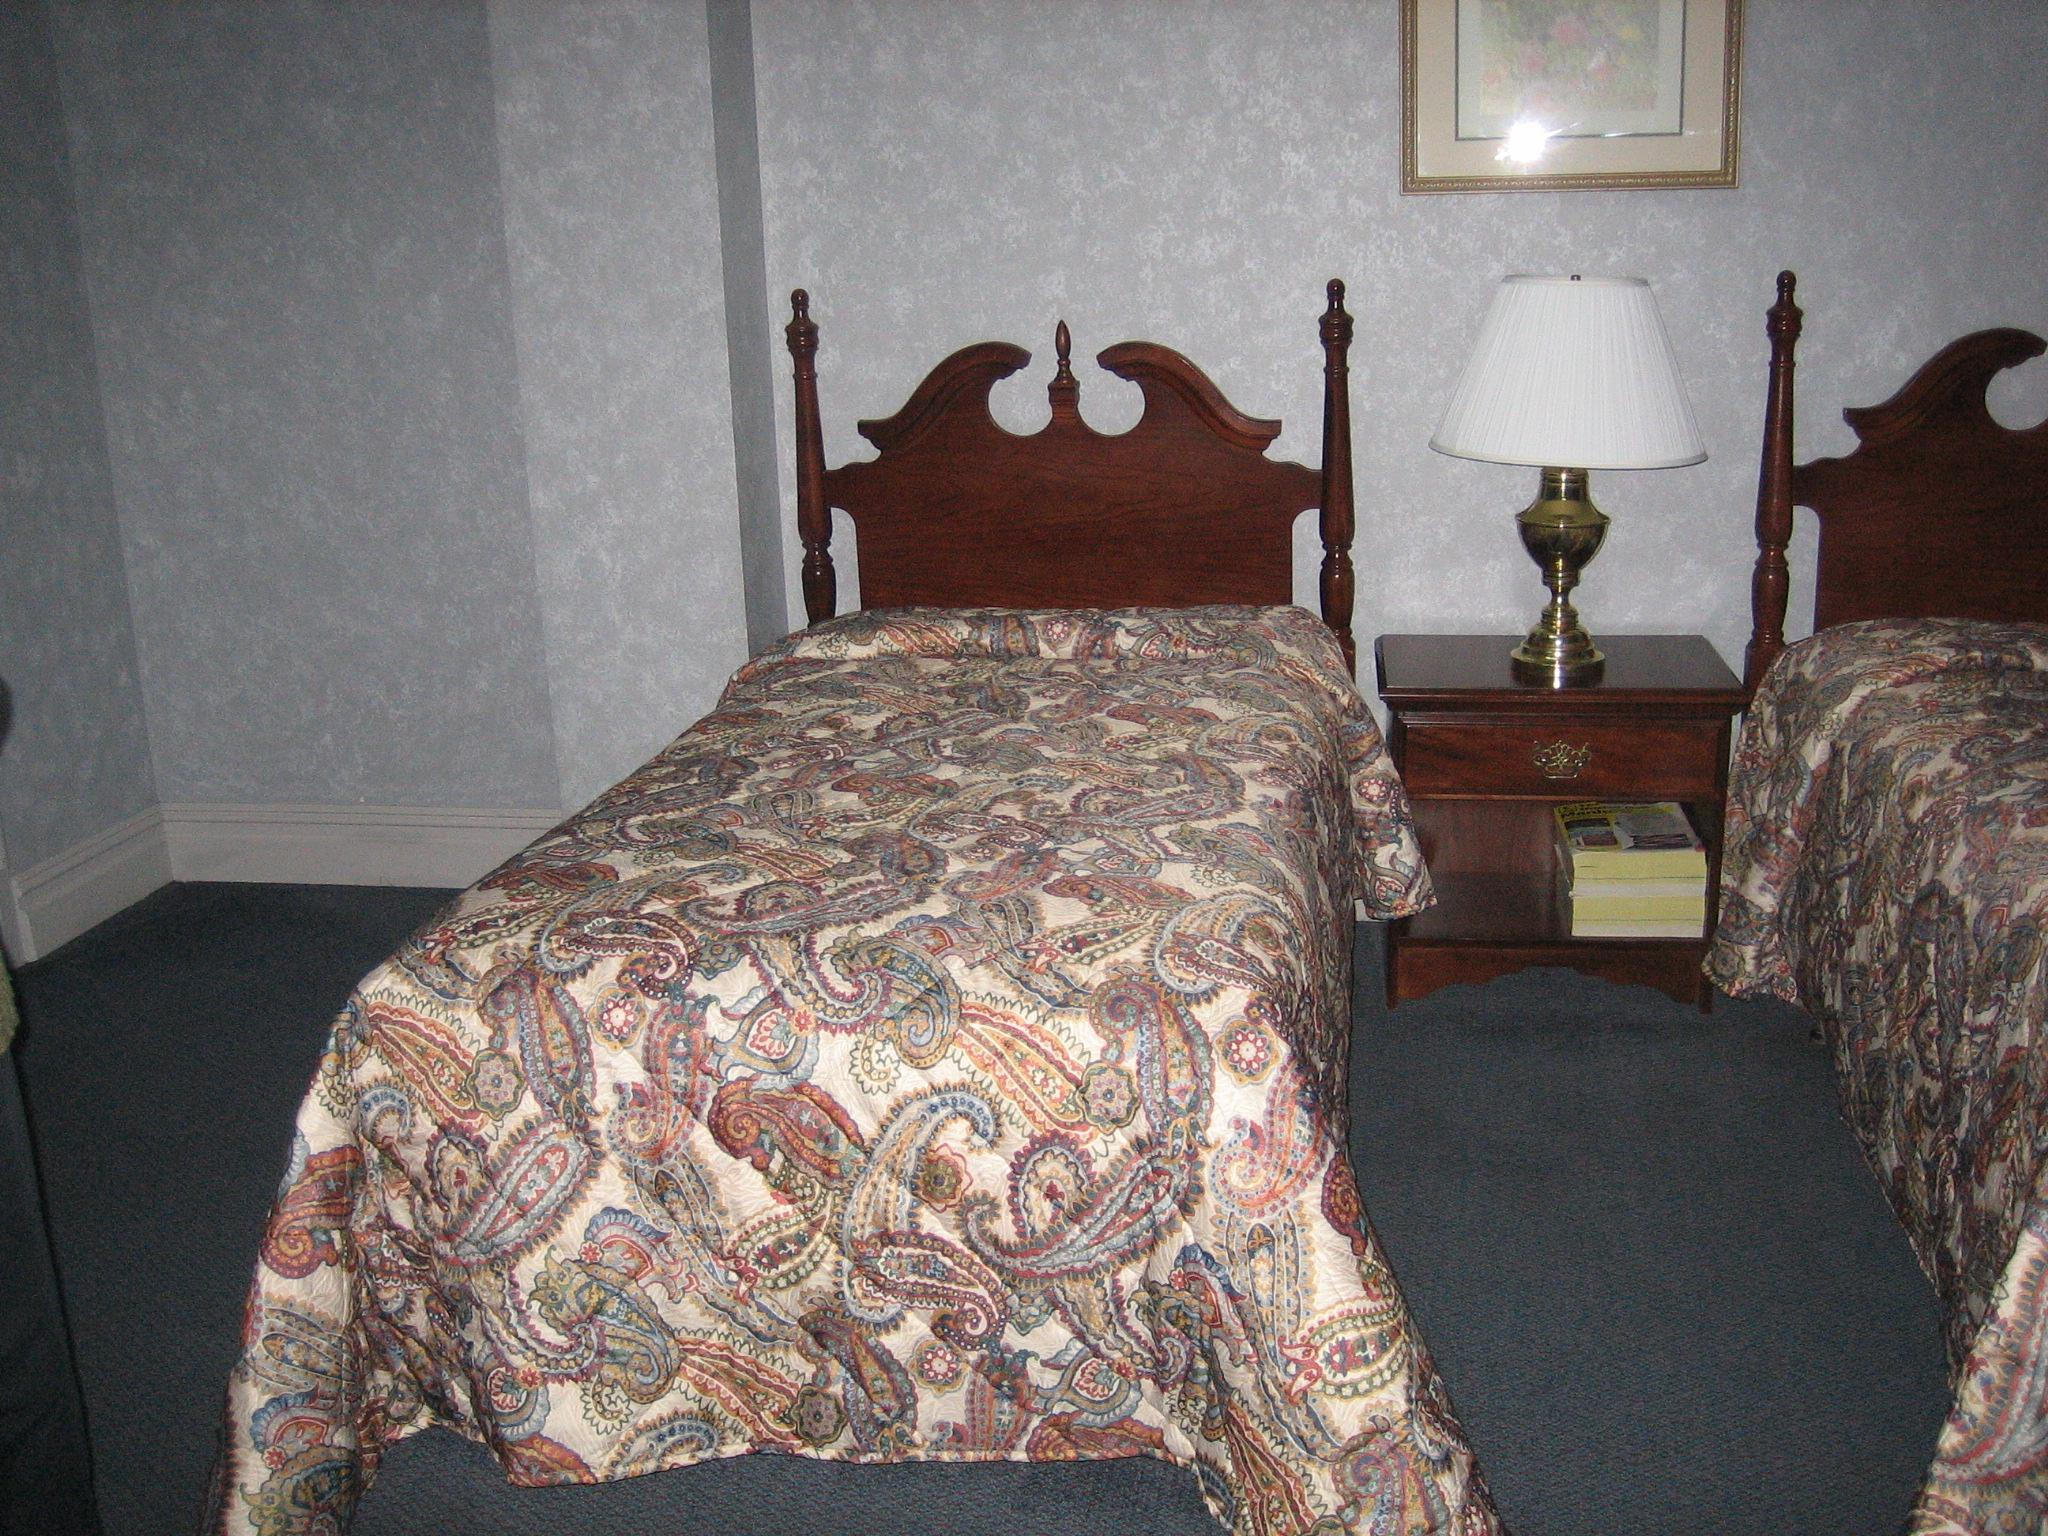Cama: (273, 292, 1467, 1480), (1730, 374, 2038, 1502)
